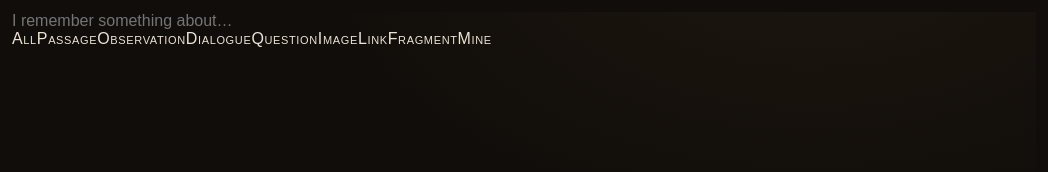
Test: ForageView › never digs up a released thing
Type "tram" into the field.
click(524, 21); type("tram")  # box [12,12,1036,30]
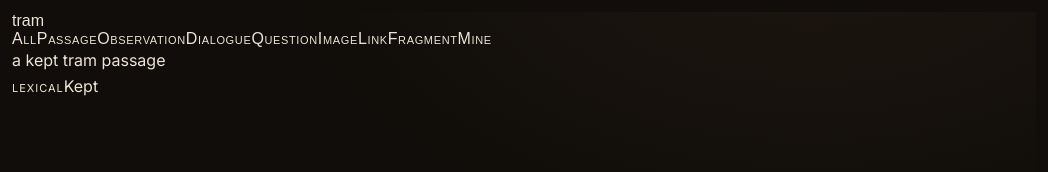
Now the text "a kept tram passage" is shown, box [12,50,166,70]
